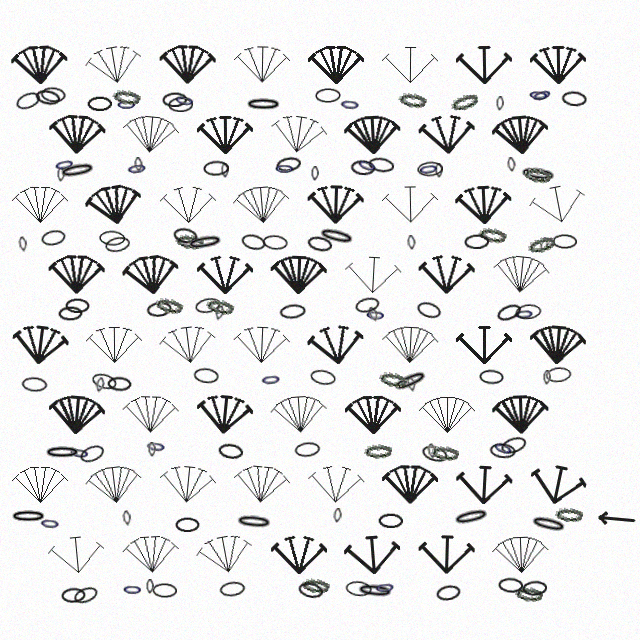chain: (391, 367, 430, 395), (317, 225, 356, 248), (529, 513, 568, 536), (452, 506, 491, 528), (58, 160, 97, 181), (186, 232, 224, 253), (449, 90, 480, 114), (519, 165, 557, 184), (526, 233, 557, 256), (235, 513, 273, 531), (356, 582, 394, 600), (14, 89, 42, 112), (495, 301, 523, 324), (78, 442, 106, 465), (499, 434, 528, 456), (415, 299, 443, 321), (72, 584, 100, 606), (420, 443, 449, 464), (90, 371, 118, 392), (154, 296, 184, 315), (205, 297, 235, 316), (378, 370, 408, 389), (245, 97, 282, 112), (44, 445, 81, 460), (10, 509, 47, 524), (240, 232, 267, 252), (306, 234, 333, 254), (354, 295, 381, 315), (297, 580, 324, 600), (194, 296, 222, 315), (309, 368, 337, 387), (112, 88, 141, 106), (398, 91, 427, 109), (523, 166, 552, 184), (478, 226, 507, 244), (34, 88, 61, 107), (275, 155, 302, 174), (40, 228, 67, 247), (104, 235, 131, 254), (172, 226, 199, 245), (435, 583, 462, 602), (367, 156, 395, 174), (355, 155, 379, 176), (491, 438, 515, 459), (175, 233, 204, 250), (301, 577, 330, 594), (217, 442, 244, 460), (219, 580, 246, 598), (530, 85, 554, 105), (146, 300, 172, 318), (279, 303, 306, 320), (515, 303, 542, 320), (21, 376, 48, 393), (545, 366, 572, 383), (294, 441, 321, 458), (489, 442, 516, 459), (345, 580, 372, 597), (364, 443, 392, 459), (431, 445, 459, 461), (515, 586, 543, 602), (40, 86, 66, 103), (561, 90, 587, 107), (350, 159, 376, 176), (262, 234, 288, 251), (193, 367, 219, 384), (173, 91, 196, 110), (53, 155, 76, 174), (555, 507, 583, 522), (203, 160, 229, 176), (417, 161, 443, 177), (99, 230, 125, 246), (417, 160, 440, 178), (68, 444, 91, 462), (107, 376, 132, 392), (479, 369, 504, 385), (61, 587, 86, 603), (498, 577, 523, 593), (522, 580, 547, 596), (315, 88, 341, 103), (87, 96, 112, 111), (162, 92, 187, 107), (168, 97, 193, 112), (464, 234, 489, 249), (552, 234, 577, 249), (58, 306, 83, 321), (65, 298, 90, 313), (175, 517, 200, 532), (378, 513, 403, 528), (152, 583, 177, 598), (339, 96, 361, 113), (126, 160, 148, 177), (260, 371, 282, 388), (145, 438, 167, 455), (39, 515, 61, 532), (374, 579, 396, 596), (513, 306, 535, 322), (528, 87, 549, 103), (365, 307, 386, 323), (116, 97, 137, 112), (274, 161, 295, 176), (122, 582, 143, 597), (367, 306, 380, 322), (214, 305, 225, 321), (406, 376, 417, 392), (18, 236, 28, 252), (539, 237, 549, 253), (95, 377, 105, 393), (427, 443, 437, 459), (122, 510, 132, 526), (134, 157, 143, 172), (507, 157, 516, 172), (407, 235, 416, 250), (333, 508, 342, 523), (496, 96, 504, 111), (57, 167, 65, 182), (221, 163, 229, 178), (311, 166, 319, 181), (435, 163, 443, 178), (543, 370, 551, 385), (148, 442, 156, 457), (146, 579, 154, 594)
fan: (526, 459, 589, 511), (527, 179, 589, 230), (194, 529, 256, 580), (83, 40, 145, 90), (83, 180, 145, 230), (268, 110, 329, 159), (121, 251, 181, 299), (10, 321, 70, 369), (158, 321, 218, 369), (306, 321, 366, 369), (84, 461, 144, 509), (491, 251, 551, 298), (121, 111, 180, 158), (195, 391, 254, 438), (158, 461, 217, 508), (232, 461, 291, 508), (491, 112, 550, 158), (232, 182, 291, 228), (528, 322, 587, 368), (47, 392, 106, 438), (47, 532, 106, 578), (343, 532, 402, 578), (48, 112, 106, 157), (418, 112, 476, 157), (270, 392, 328, 437), (307, 462, 365, 507), (122, 532, 180, 577), (344, 253, 402, 297), (381, 323, 439, 367), (455, 463, 513, 507), (11, 43, 68, 87), (344, 113, 401, 157), (455, 183, 512, 227), (270, 253, 327, 297), (233, 323, 290, 367), (492, 533, 549, 577), (159, 43, 216, 86), (307, 183, 364, 226), (48, 253, 105, 296), (418, 253, 475, 296), (122, 393, 179, 436), (492, 393, 549, 436), (418, 533, 475, 576), (234, 43, 290, 86), (382, 183, 438, 226), (382, 463, 438, 506), (308, 44, 364, 86), (382, 44, 438, 86), (456, 44, 512, 86), (530, 44, 586, 86), (197, 114, 253, 156), (12, 184, 68, 226), (160, 184, 216, 226), (197, 254, 253, 296), (86, 324, 142, 366), (456, 324, 512, 366), (345, 394, 401, 436), (419, 394, 475, 436), (12, 464, 68, 506), (271, 534, 327, 576)
noise: (595, 509, 636, 528)
